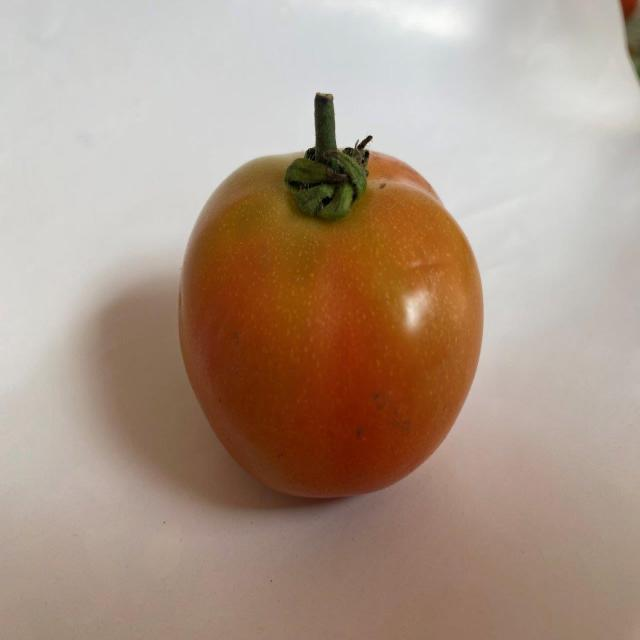Tomato: (176, 88, 486, 507)
